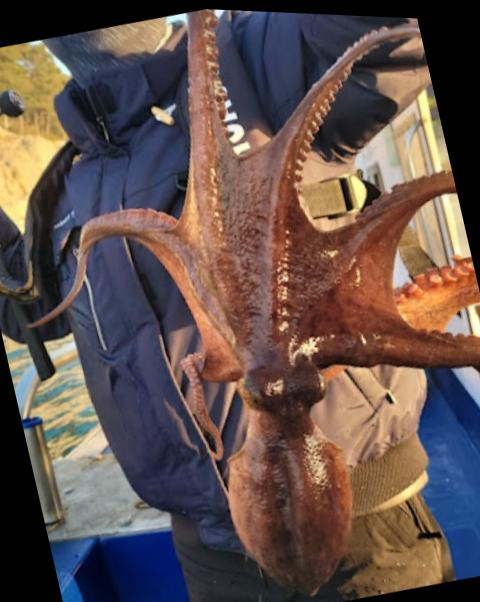Cephalopod: (30, 7, 480, 596)
